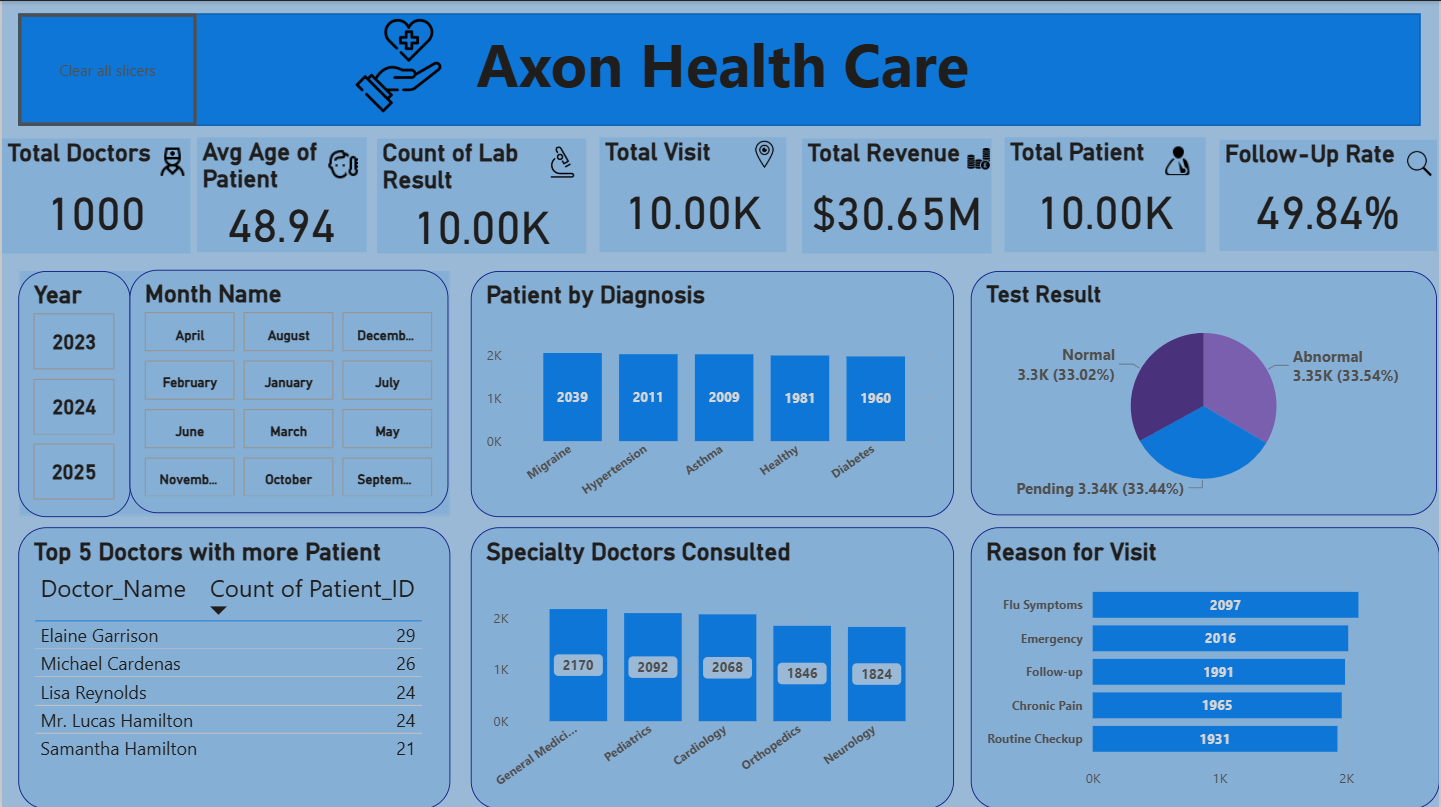

The page's visual inventory and layout, read from the dashboard file:
{"tool":"powerbi","page":{"name":"Page 4","canvas":[1280,720],"ordinal":3},"visuals":[{"type":"textbox","box":[0,0,608.3,108.2],"z":0},{"type":"card","fields":{"Values":["CountNonNull(Doctor.Doctor_ID)"]},"box":[608.3,0,186.6,108.2],"z":1000},{"type":"card","fields":{"Values":["CountNonNull(Patient.Patient_ID)"]},"box":[1035,109.5,245.1,104.5],"z":2000},{"type":"card","fields":{"Values":["CountNonNull(Visit.Visit_ID)"]},"box":[947.9,0,165.4,109.5],"z":3000},{"type":"card","fields":{"Values":["CountNonNull(Lab_result.Lab_Result_ID)"]},"box":[799.9,108.2,235.1,105.7],"z":4000},{"type":"card","fields":{"Values":["Avg(Patient.Age)"]},"box":[794.9,0,153,108.2],"z":5000},{"type":"card","fields":{"Values":["Treatment.Total Revenue"]},"box":[1113.3,0,165.4,109.5],"z":6000},{"type":"pieChart","title":"Test Result","fields":{"Category":["Lab_result.Test_Result"],"Y":["CountNonNull(Patient.Patient_ID)"]},"box":[0,108.2,384.4,307.3],"z":7000},{"type":"barChart","title":"Reason for Visit","fields":{"Category":["Visit.Reason_for_Visit"],"Y":["CountNonNull(Patient.Patient_ID)"]},"box":[384.4,108.2,415.5,316],"z":8000},{"type":"clusteredColumnChart","title":"Patient by Diagnosis","fields":{"Category":["Visit.Diagnosis"],"Y":["CountNonNull(Patient.Patient_ID)"]},"box":[0,415.5,384.4,304.8],"z":9000},{"type":"lineClusteredColumnComboChart","title":"Specialty Doctors Consulted","fields":{"Category":["Doctor.Specialty"],"Y":["CountNonNull(Patient.Patient_ID)"]},"box":[384.4,415.5,415.5,304.8],"z":10000},{"type":"tableEx","title":"Top 5 Doctors with more Patient","fields":{"Values":["Doctor.Doctor_Name","Patient.Patient_ID"]},"box":[799.9,441.6,478.9,278.6],"z":11000},{"type":"advancedSlicerVisual","title":"Year","fields":{"Values":["Visit.year"]},"box":[799.9,214,136.8,227.6],"z":12000},{"type":"advancedSlicerVisual","fields":{"Values":["Visit.Month Name"]},"box":[936.7,214,343.3,227.6],"z":13000}]}

Visuals, with their boxes in screenshot pixels (x1, y1, x2, y2), scaled from the page's 1280x720 canvas onto the 1441x807 screenshot:
textbox: {"x1": 0, "y1": 0, "x2": 685, "y2": 121}
card - CountNonNull(Doctor.Doctor_ID): {"x1": 685, "y1": 0, "x2": 895, "y2": 121}
card - CountNonNull(Patient.Patient_ID): {"x1": 1165, "y1": 123, "x2": 1440, "y2": 240}
card - CountNonNull(Visit.Visit_ID): {"x1": 1067, "y1": 0, "x2": 1253, "y2": 123}
card - CountNonNull(Lab_result.Lab_Result_ID): {"x1": 901, "y1": 121, "x2": 1165, "y2": 240}
card - Avg(Patient.Age): {"x1": 895, "y1": 0, "x2": 1067, "y2": 121}
card - Treatment.Total Revenue: {"x1": 1253, "y1": 0, "x2": 1440, "y2": 123}
"Test Result" pieChart: {"x1": 0, "y1": 121, "x2": 433, "y2": 466}
"Reason for Visit" barChart: {"x1": 433, "y1": 121, "x2": 901, "y2": 475}
"Patient by Diagnosis" clusteredColumnChart: {"x1": 0, "y1": 466, "x2": 433, "y2": 806}
"Specialty Doctors Consulted" lineClusteredColumnComboChart: {"x1": 433, "y1": 466, "x2": 901, "y2": 806}
"Top 5 Doctors with more Patient" tableEx: {"x1": 901, "y1": 495, "x2": 1440, "y2": 806}
"Year" advancedSlicerVisual: {"x1": 901, "y1": 240, "x2": 1055, "y2": 495}
advancedSlicerVisual - Visit.Month Name: {"x1": 1055, "y1": 240, "x2": 1440, "y2": 495}
